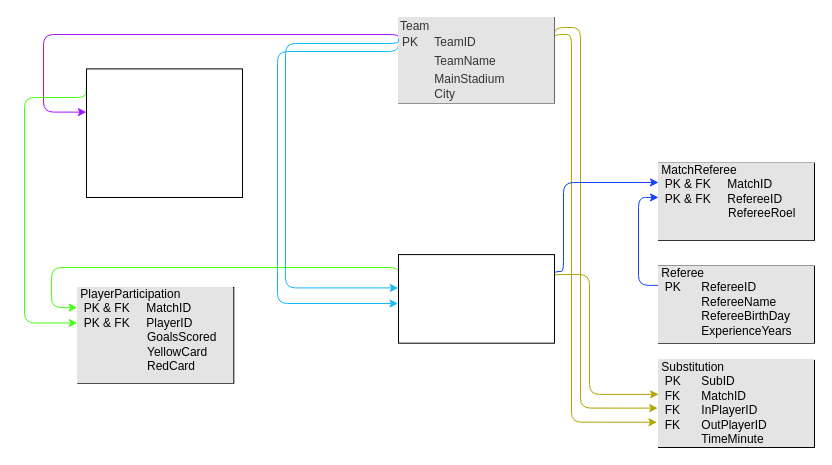
This 832x465 diagram has some shape labels left out. Each missing label, with the centre of its shape:
Match PK MatchID FK HomeTeamID FK AwayTeamID Stadium Result: point (476, 298)
Player PK PlayerID FK TeamID PlayerName Birthday StartYear JerseyNumber TeamID: point (164, 133)
